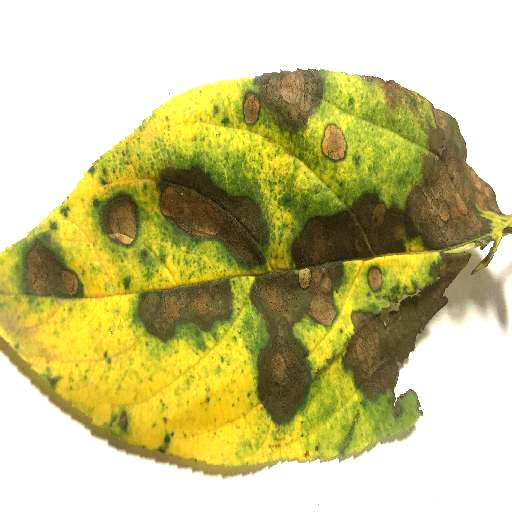Brown_Spot: (348, 249, 464, 399), (411, 112, 509, 239), (154, 172, 264, 271), (280, 199, 410, 257), (253, 274, 302, 422), (262, 71, 325, 129), (136, 291, 230, 329), (32, 241, 82, 298), (301, 266, 339, 329), (103, 202, 137, 243), (321, 125, 347, 162), (368, 264, 391, 295), (246, 84, 262, 126)
